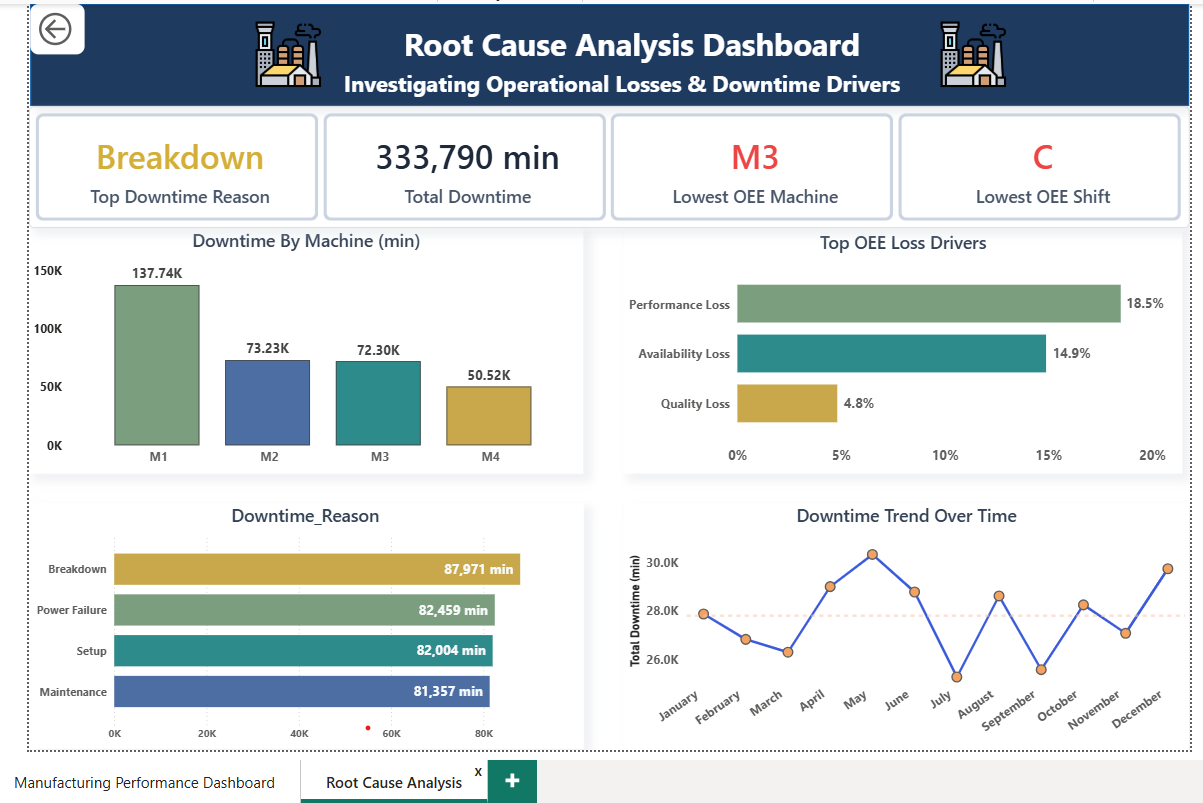

This screenshot's page, from the dashboard's own definition file:
{"tool":"powerbi","page":{"name":"Root Cause Analysis","canvas":[1400,900],"ordinal":1},"visuals":[{"type":"shape","box":[1.6,0,1398.1,123.1],"z":1000},{"type":"columnChart","title":"Downtime By Machine (min)","fields":{"Category":["dim_machine.Machine_ID"],"Series":["dim_machine.Machine_Type"],"Y":["RCA.Total Downtime"]},"box":[0,269.8,669.1,296.7],"z":2000},{"type":"textbox","box":[3.4,0,1397,123.1],"z":3000},{"type":"clusteredBarChart","title":"Downtime_Reason","fields":{"Category":["dim_downtime.Downtime_Reason"],"Y":["RCA.Total Downtime"]},"box":[3,601.7,666.6,297.1],"z":4000},{"type":"lineChart","title":"Downtime Trend Over Time","fields":{"Category":["dim_date.Date.Variation.Date Hierarchy.Month"],"Y":["RCA.Total Downtime"]},"box":[718,601.2,681.7,298.2],"z":5000},{"type":"clusteredBarChart","title":"Top OEE Loss Drivers","fields":{"Category":["Loss_Driver.Loss Type"],"Y":["Loss_Driver.Loss Value"]},"box":[718,273,673.8,293.5],"z":6000},{"type":"image","box":[235.1,15.8,154.6,91.5],"z":7000},{"type":"image","box":[1062,15.8,154.6,91.5],"z":8000},{"type":"cardVisual","fields":{"Data":["RCA.Top Downtime Reason","RCA.Total Downtime Display","RCA.Worst Machine","RCA.Worst Shift"]},"box":[0,123.1,1400,146.7],"z":9000},{"type":"actionButton","box":[0,0,100,40],"z":10000},{"type":"actionButton","box":[1.7,0,65.8,60.7],"z":11000}]}

Visuals, with their boxes on the page's 1400x900 design canvas (x1, y1, x2, y2). These are canvas units, not pixel positions in the 1203x803 screenshot, which may show the page scaled, cropped or inside an application window:
shape: rect(2, 0, 1400, 123)
"Downtime By Machine (min)" columnChart: rect(0, 270, 669, 566)
textbox: rect(3, 0, 1400, 123)
"Downtime_Reason" clusteredBarChart: rect(3, 602, 670, 899)
"Downtime Trend Over Time" lineChart: rect(718, 601, 1400, 899)
"Top OEE Loss Drivers" clusteredBarChart: rect(718, 273, 1392, 566)
image: rect(235, 16, 390, 107)
image: rect(1062, 16, 1217, 107)
cardVisual - RCA.Top Downtime Reason x RCA.Total Downtime Display: rect(0, 123, 1400, 270)
actionButton: rect(0, 0, 100, 40)
actionButton: rect(2, 0, 68, 61)
